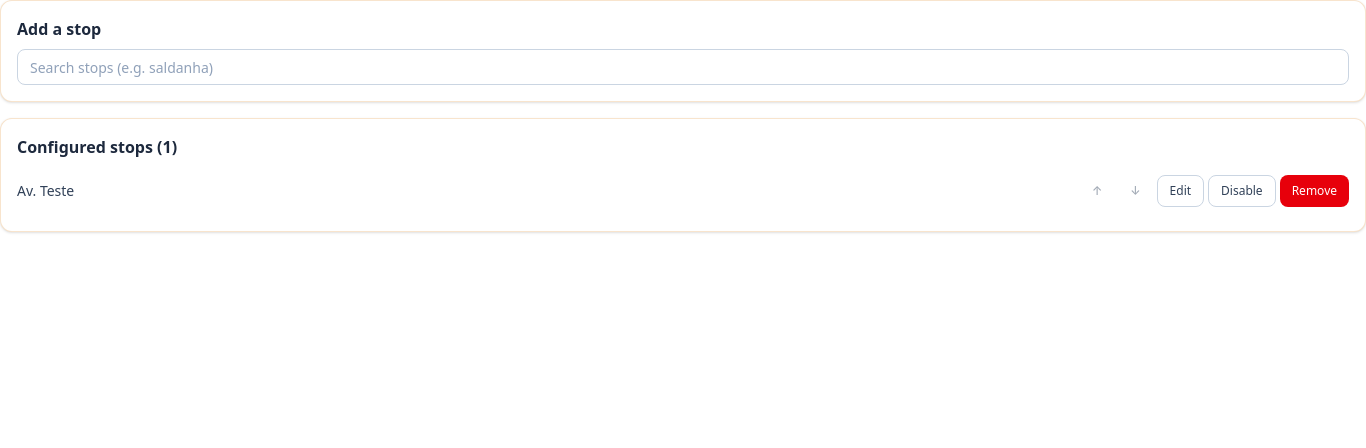
Scenario: ConfigPanel › shows the three threshold inputs when editing a stop
The image size is (1366, 448).
What coordinates should you click on to do the following:
click the button "Edit"
I would click on:
 (1180, 191)
Its box is [1157,175,1204,207].
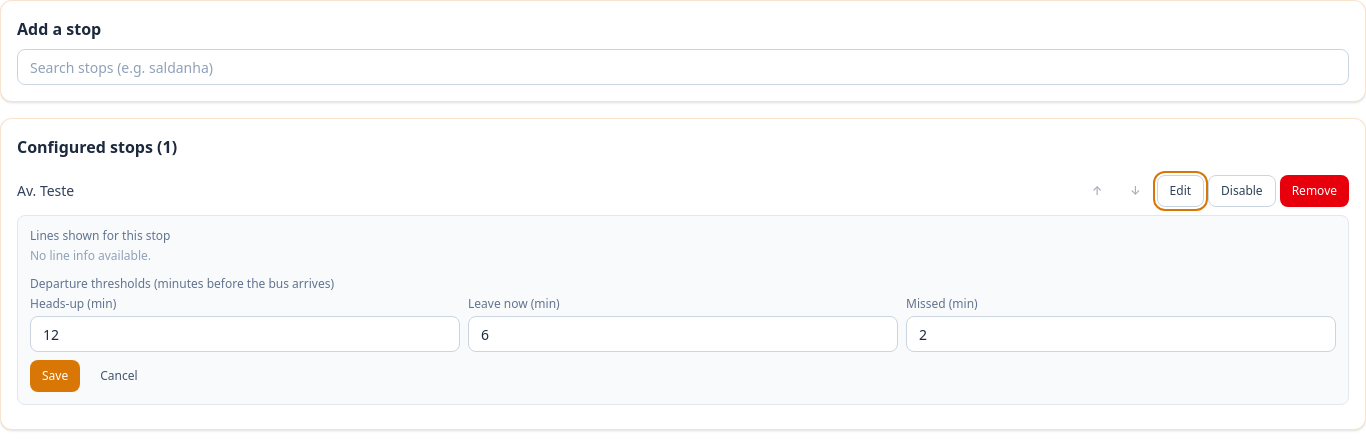
Result: the number field labelled "Heads-up (min)" holds "12" at [30,316,460,352]
Result: the number field labelled "Leave now (min)" holds "6" at [468,316,898,352]
Result: the number field labelled "Missed (min)" holds "2" at [906,316,1336,352]
